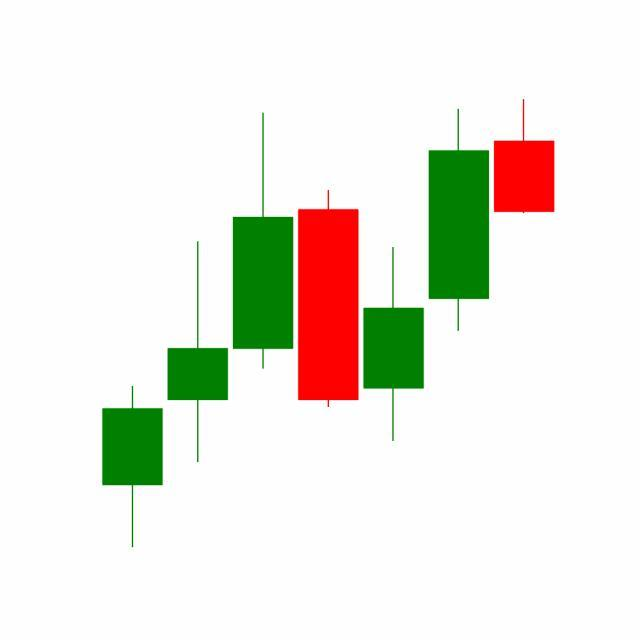Three Inside Up-Down: (295, 105, 492, 445)
